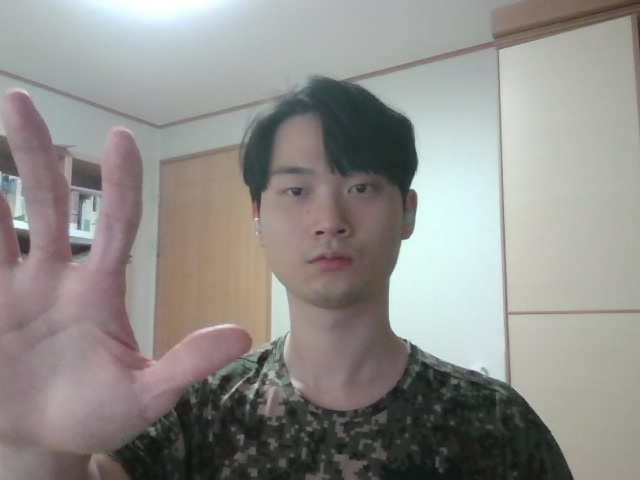hello: (1, 56, 274, 461)
